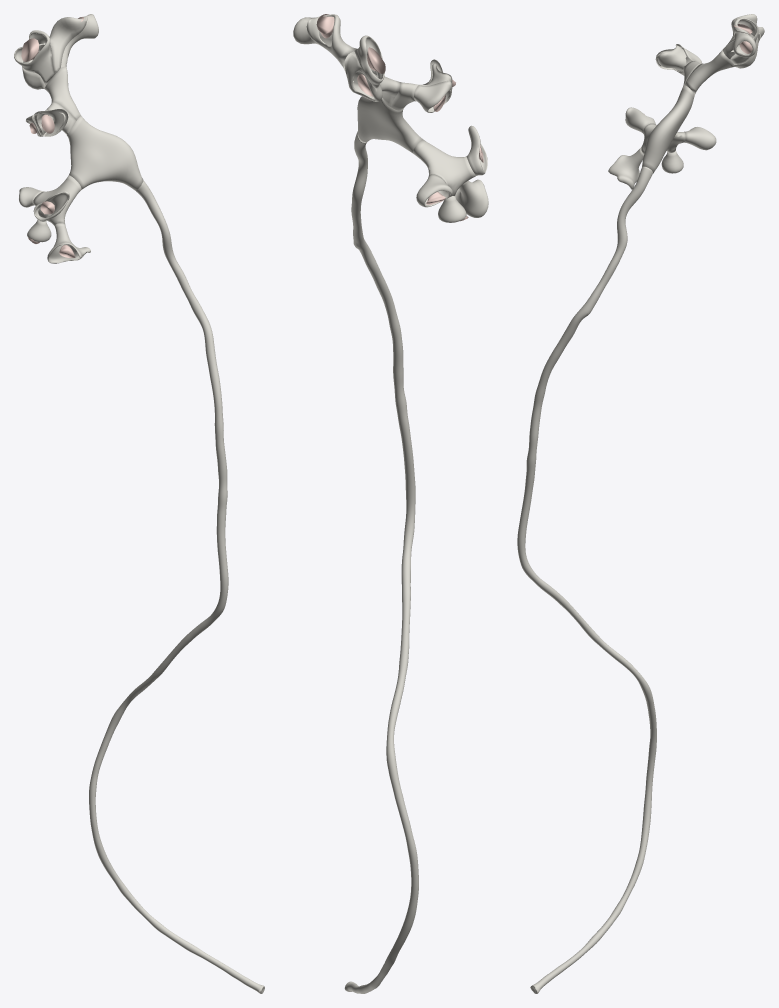
Rendered from vh_f_ureter_r-100.glb.
3 renders of one model, left to right at view 1: azimuth 30°, elevation 25°; view 2: azimuth 150°, elevation 25°; view 3: azimuth 270°, elevation 25°, orthographic. The views are drawn at different scales.
Parts seen in each view (by area): view 1: VH_F_right_ureter, VH_F_renal_pelvis_R, VH_F_minor_calyx_R_d, VH_F_minor_calyx_R_b, VH_F_major_calyx_R_a, VH_F_major_calyx_R_c, VH_F_minor_calyx_R_j, VH_F_minor_calyx_R_f; view 2: VH_F_right_ureter, VH_F_renal_pelvis_R, VH_F_major_calyx_R_c, VH_F_minor_calyx_R_b, VH_F_minor_calyx_R_j, VH_F_minor_calyx_R_c, VH_F_minor_calyx_R_e, VH_F_minor_calyx_R_d, VH_F_minor_calyx_R_g, VH_F_minor_calyx_R_i, VH_F_minor_calyx_R_h, VH_F_major_calyx_R_b; view 3: VH_F_right_ureter, VH_F_renal_pelvis_R, VH_F_minor_calyx_R_j, VH_F_major_calyx_R_a, VH_F_minor_calyx_R_f.
Part boxes in pixels (x1,y1,x2,y2): VH_F_right_ureter: [89, 180, 264, 993]; VH_F_renal_pelvis_R: [67, 116, 143, 190]; VH_F_minor_calyx_R_d: [14, 30, 55, 85]; VH_F_minor_calyx_R_b: [49, 16, 87, 73]; VH_F_major_calyx_R_a: [44, 66, 80, 120]; VH_F_major_calyx_R_c: [33, 175, 81, 225]; VH_F_minor_calyx_R_j: [47, 223, 90, 263]; VH_F_minor_calyx_R_f: [33, 109, 68, 136]; VH_F_right_ureter: [344, 132, 418, 993]; VH_F_renal_pelvis_R: [357, 96, 422, 153]; VH_F_major_calyx_R_c: [412, 139, 475, 196]; VH_F_minor_calyx_R_b: [306, 14, 356, 81]; VH_F_minor_calyx_R_j: [455, 179, 488, 217]; VH_F_minor_calyx_R_c: [344, 51, 382, 101]; VH_F_minor_calyx_R_e: [414, 81, 452, 112]; VH_F_minor_calyx_R_d: [354, 35, 384, 88]; VH_F_minor_calyx_R_g: [416, 174, 452, 207]; VH_F_minor_calyx_R_i: [466, 125, 487, 175]; VH_F_minor_calyx_R_h: [438, 196, 466, 222]; VH_F_major_calyx_R_b: [390, 82, 418, 110]; VH_F_right_ureter: [517, 166, 656, 993]; VH_F_renal_pelvis_R: [642, 85, 694, 173]; VH_F_minor_calyx_R_j: [608, 147, 644, 189]; VH_F_major_calyx_R_a: [684, 49, 734, 94]; VH_F_minor_calyx_R_f: [655, 44, 691, 71].
Size of the model in its own units: 0.0518 by 0.2627 by 0.0632.
